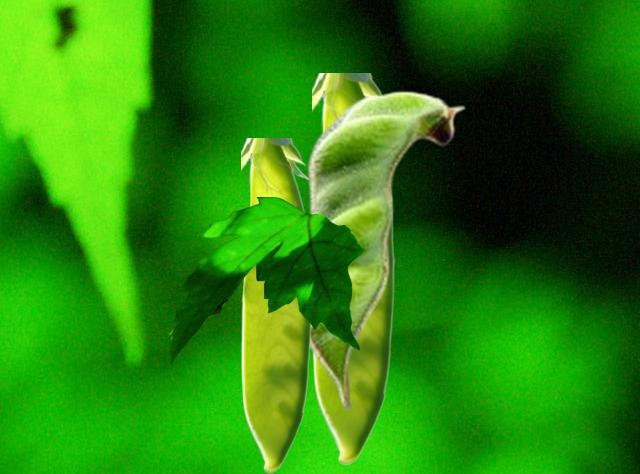pea: (302, 90, 465, 410), (312, 73, 394, 464), (241, 138, 311, 472)
